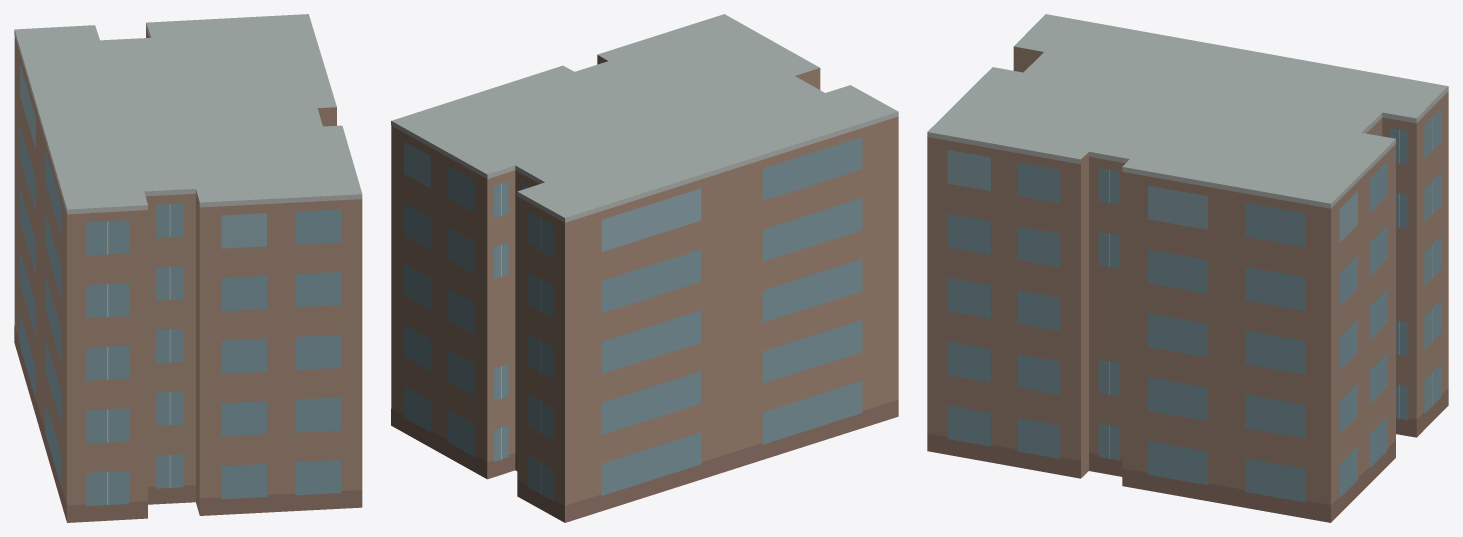
File: survey-upis-32847905.glb
The picture shows the model from 3 angles, left to right: view 1: azimuth 30°, elevation 25°; view 2: azimuth 150°, elevation 25°; view 3: azimuth 270°, elevation 25°; orthographic projection. The views are drawn at different scales.
Visible parts, largest first — view 1: survey-upis-32847905.tmp; view 2: survey-upis-32847905.tmp; view 3: survey-upis-32847905.tmp.
Part boxes in pixels (box(x1,y1,x2,y2)): survey-upis-32847905.tmp: box(14, 14, 362, 522); survey-upis-32847905.tmp: box(391, 14, 898, 522); survey-upis-32847905.tmp: box(927, 14, 1448, 522).
Size of the model in its own units: 20.15 by 15.8 by 23.4.
